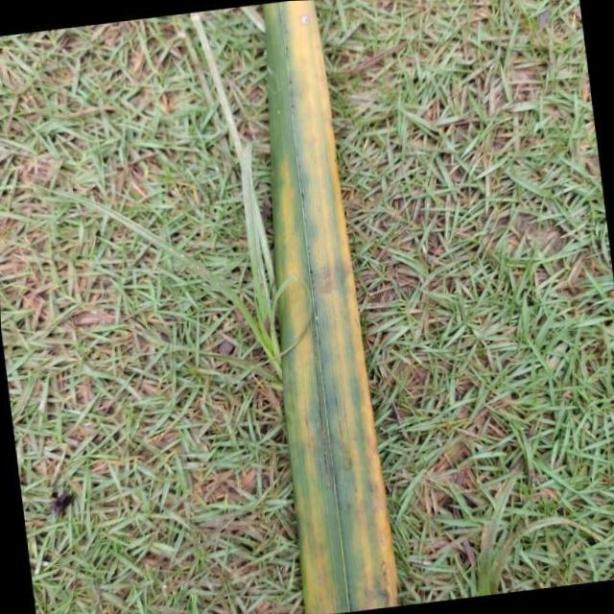Megnesium: (262, 0, 404, 610)
